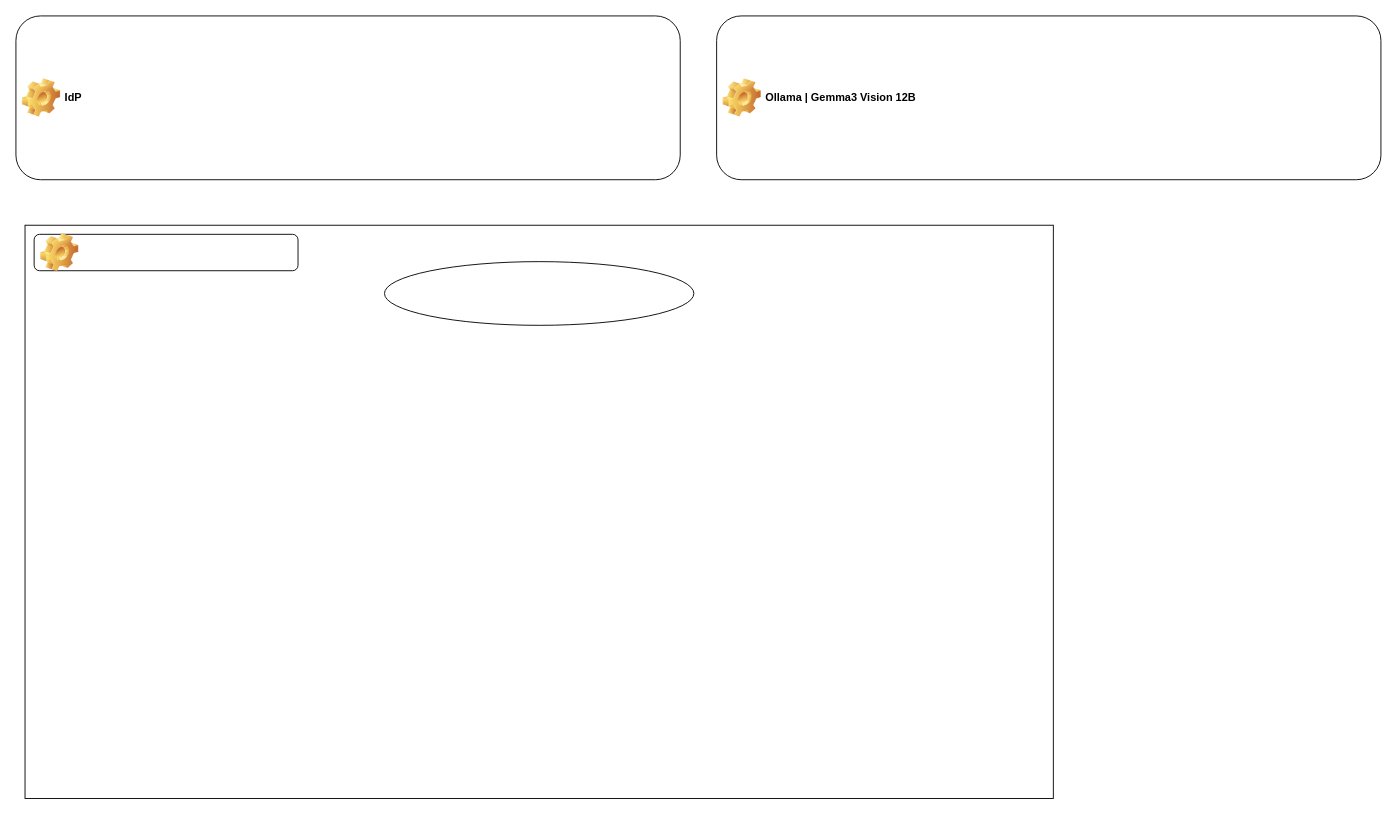
Image size: 1397x814. Some labels were removed from this diagram. Here are the shapes that lost their labels. From the top down, the box of each, then its label:
(33, 233, 298, 271): Cluster K8s | Minikube
(384, 261, 694, 325): Ingress | LB
